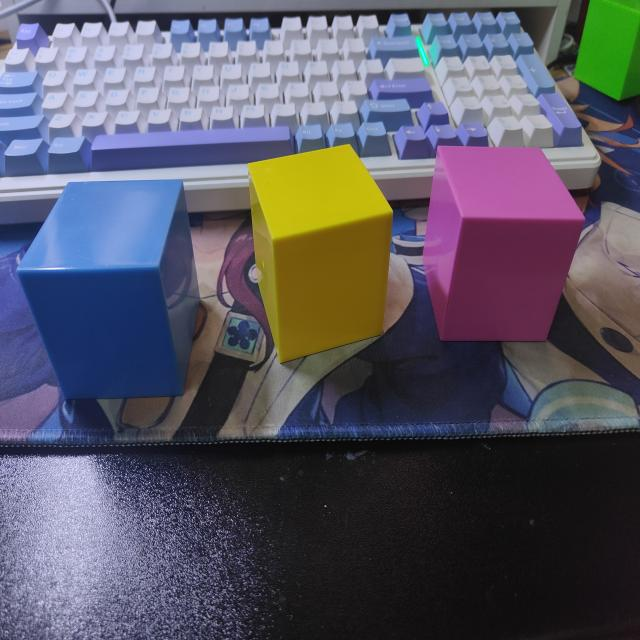blue: (15, 177, 202, 402)
pink: (424, 145, 585, 346)
yellow: (246, 143, 396, 367)
